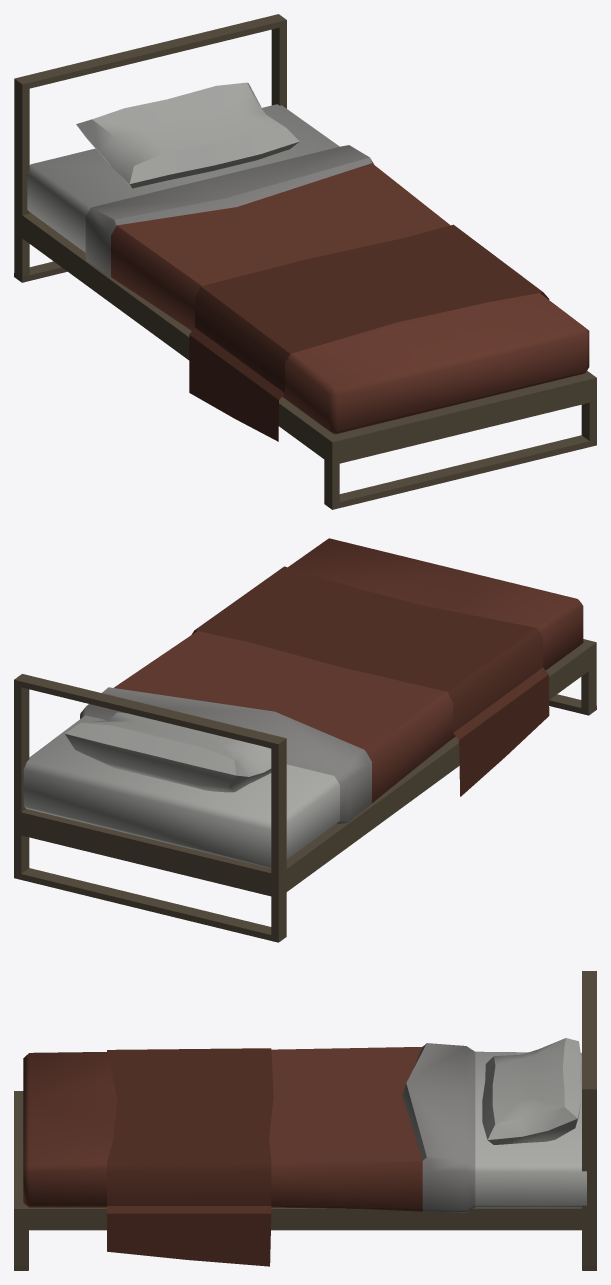
Rendered from Bed_Single.glb.
3 renders of one model, top to bottom at view 1: azimuth 30°, elevation 25°; view 2: azimuth 150°, elevation 25°; view 3: azimuth 270°, elevation 25°, orthographic. The views are drawn at different scales.
Parts seen in each view (by area): view 1: Bed_Single; view 2: Bed_Single; view 3: Bed_Single.
Part boxes in pixels (left/top/right/bottom): Bed_Single: left=14, top=14, right=596, bottom=509; Bed_Single: left=14, top=538, right=596, bottom=942; Bed_Single: left=14, top=971, right=596, bottom=1270.
Bounding box in the file's own units: 0.5937 × 0.4064 × 1.18.
